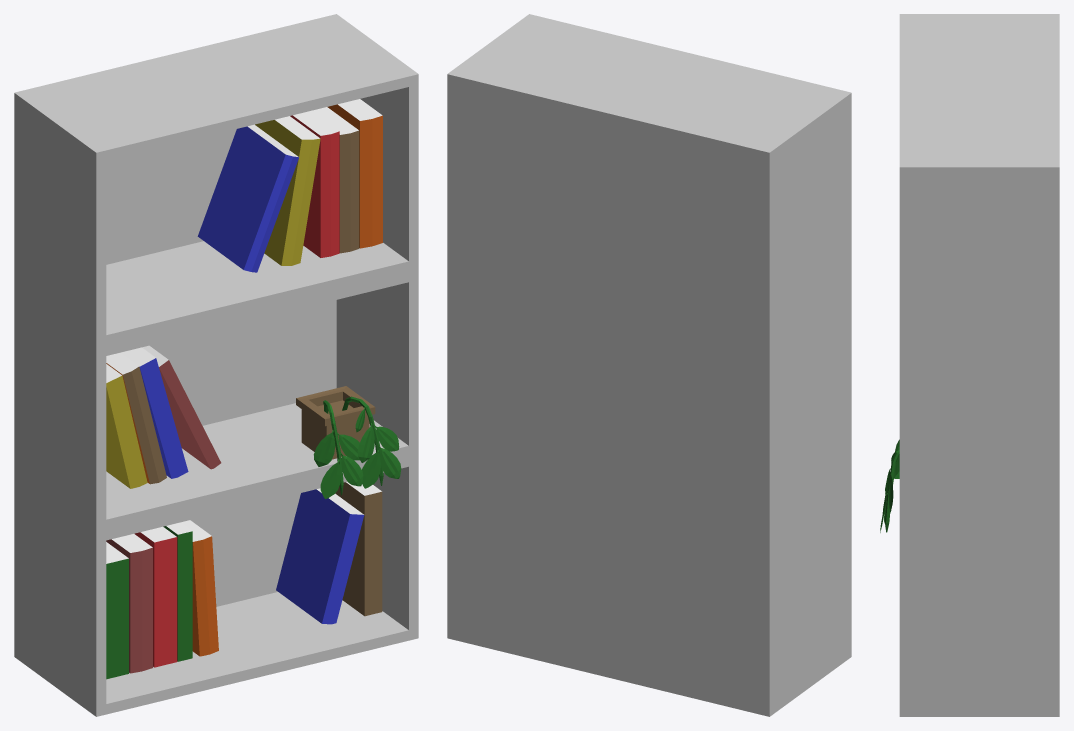
The model's file is BookShelf_04.glb.
3 renders of one model, left to right at view 1: azimuth 30°, elevation 25°; view 2: azimuth 150°, elevation 25°; view 3: azimuth 270°, elevation 25°, orthographic. The views are drawn at different scales.
Visible parts, largest first — view 1: BookShelf04; view 2: BookShelf04; view 3: BookShelf04.
Boxes of the visible parts, <box> form: BookShelf04: <box>14,14,418,716</box>; BookShelf04: <box>447,14,851,716</box>; BookShelf04: <box>880,14,1059,716</box>.
Size of the model in its own units: 4.53 by 7.58 by 2.24.
1 material, 1 textured.
